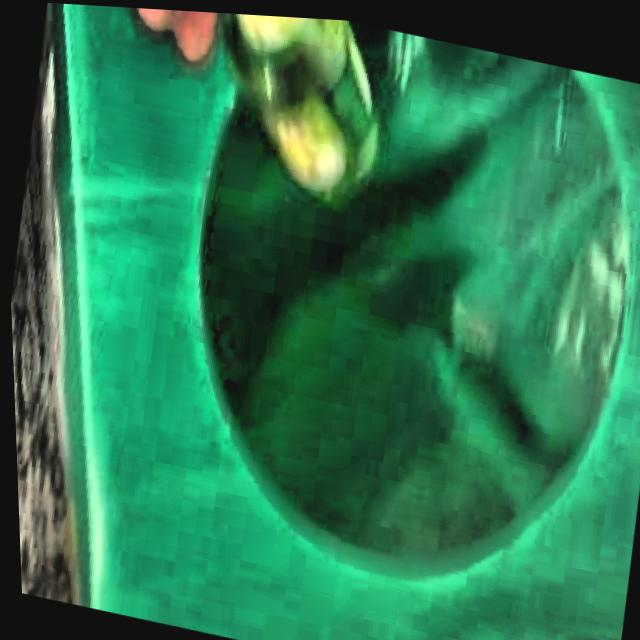glass: (225, 10, 375, 189)
